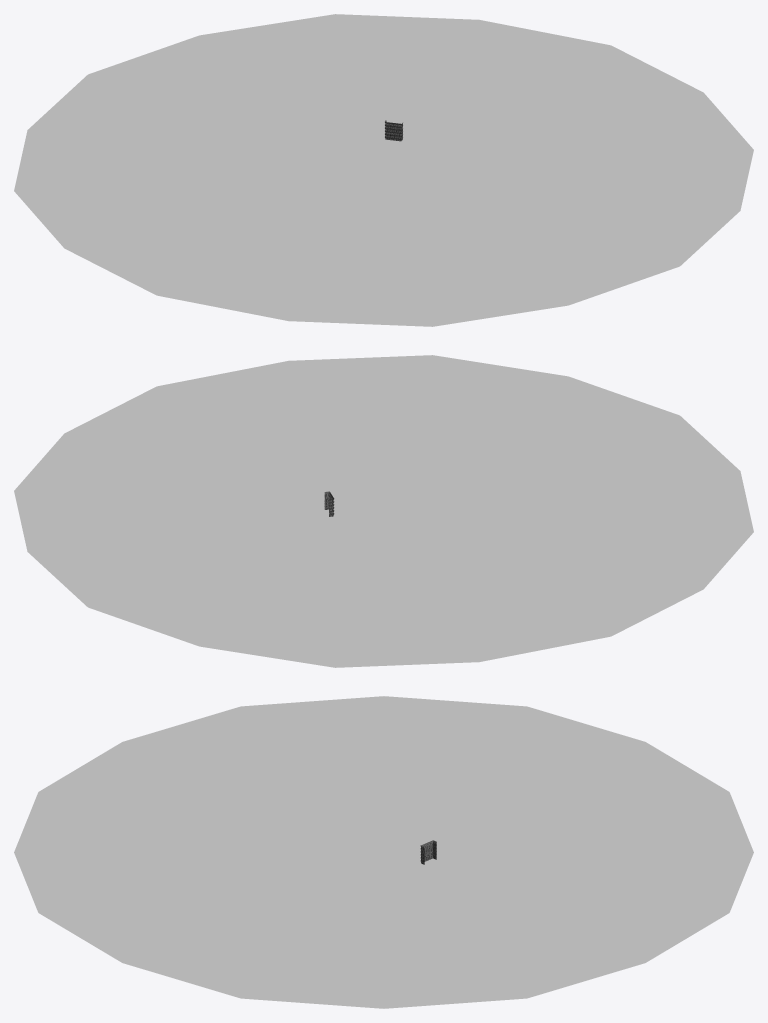
File: sea_bake.dae
The picture shows the model from 3 angles, top to bottom: view 1: azimuth 30°, elevation 25°; view 2: azimuth 150°, elevation 25°; view 3: azimuth 270°, elevation 25°; orthographic projection.
Visible parts, largest first — view 1: m2, m1; view 2: m2, m1; view 3: m2.
Boxes of the visible parts, x1,y1,x2,y2 form: m2: [14, 14, 753, 326]; m1: [329, 139, 403, 159]; m2: [14, 355, 753, 667]; m1: [325, 509, 374, 540]; m2: [14, 696, 753, 1008].
Size of the model in its own units: 135377 by 4960 by 135377.
